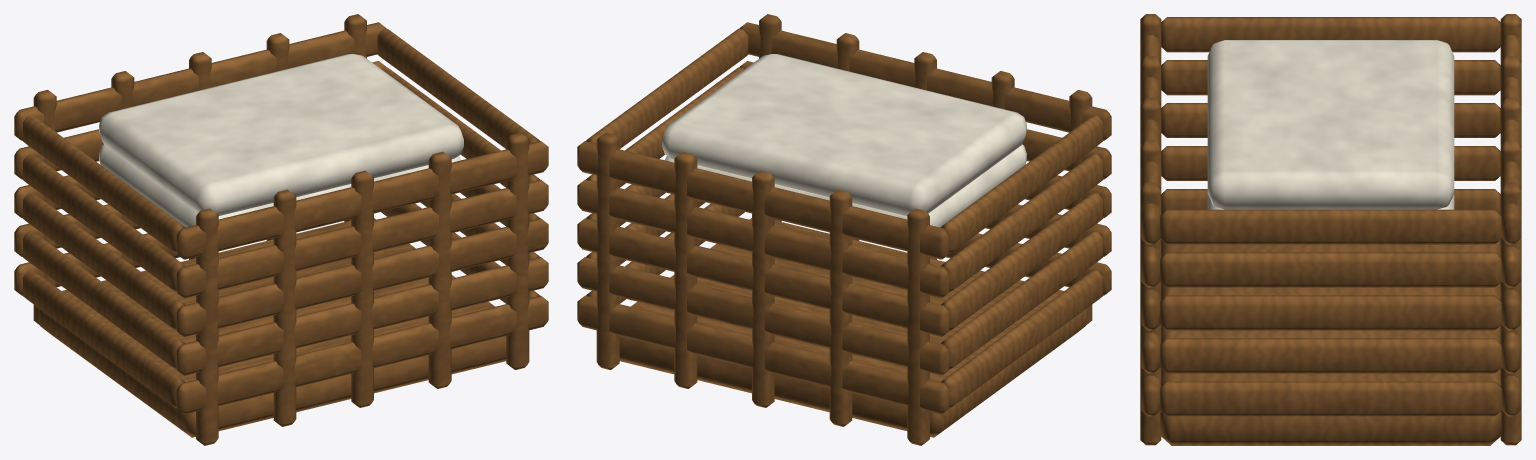
Rendered from Furn_Basket.fbx.
The picture shows the model from 3 angles, left to right: view 1: azimuth 30°, elevation 25°; view 2: azimuth 150°, elevation 25°; view 3: azimuth 270°, elevation 25°; orthographic projection. The views are drawn at different scales.
Visible parts, largest first — view 1: Furn_Basket_Mesh; view 2: Furn_Basket_Mesh; view 3: Furn_Basket_Mesh.
Part boxes in pixels (box(x1,y1,x2,y2)): Furn_Basket_Mesh: box(14, 14, 548, 445); Furn_Basket_Mesh: box(577, 14, 1111, 445); Furn_Basket_Mesh: box(1140, 14, 1521, 445).
Size of the model in its own units: 0.5 by 0.3 by 0.402.
2 materials, 2 textured.
